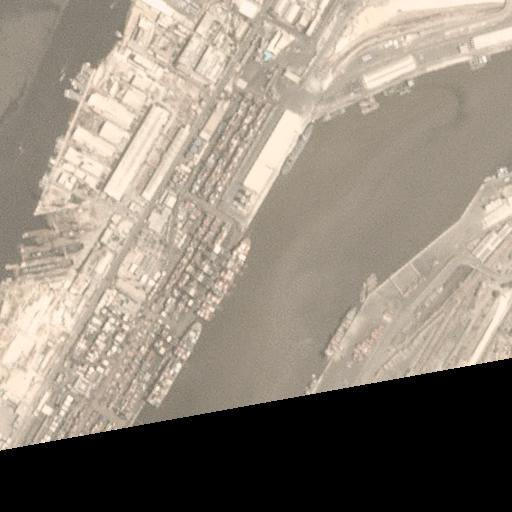ship: (195, 237, 253, 317), (144, 322, 200, 404), (281, 125, 315, 175), (324, 306, 358, 354)
